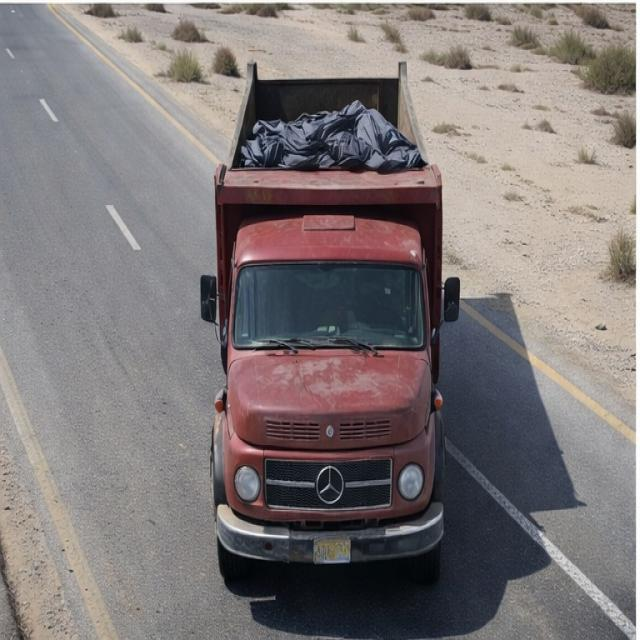trailer: (215, 58, 447, 200)
truck: (195, 51, 469, 573)
